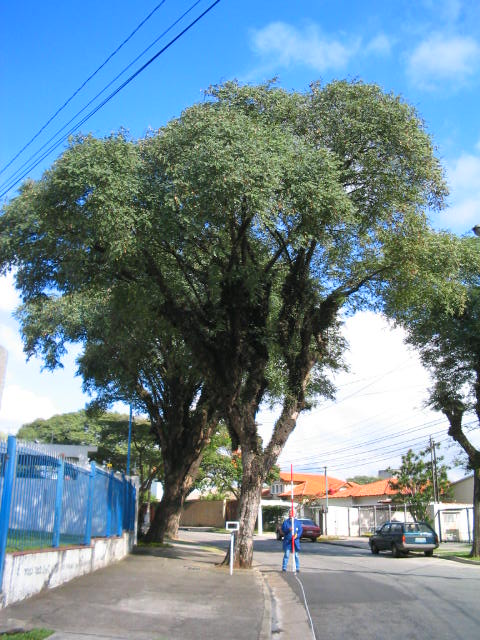crown: (35, 76, 461, 330)
stem: (218, 452, 281, 570), (144, 445, 211, 543)
stick: (283, 463, 300, 571)
tree: (33, 74, 462, 572), (1, 180, 217, 547), (387, 442, 456, 549)
